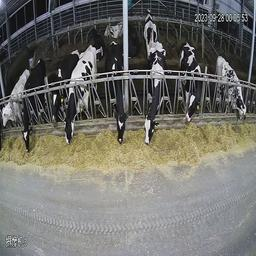cow: (65, 47, 98, 147), (140, 42, 168, 146), (214, 51, 250, 121), (106, 41, 130, 143), (179, 38, 203, 125), (23, 55, 43, 153), (51, 45, 71, 122), (1, 64, 22, 137), (143, 8, 160, 44), (90, 27, 104, 57), (104, 20, 122, 41)
